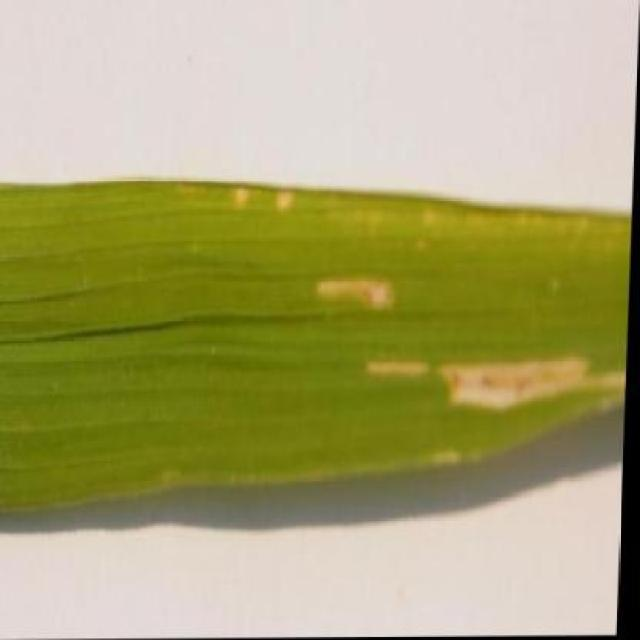Brown_Spot: (1, 153, 628, 575), (200, 160, 634, 362), (351, 316, 617, 478)
